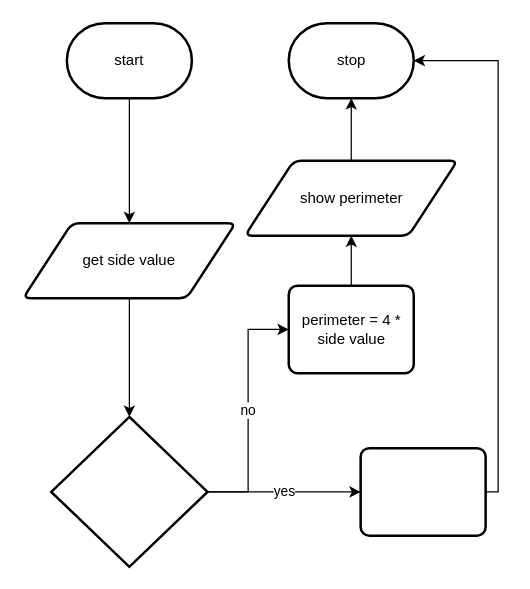
This 530x589 diagram has some shape labels left out. Each missing label, with the centre of its shape:
"if side < 0" belongs at pixel 128 491.
"return -1" belongs at pixel 422 491.
